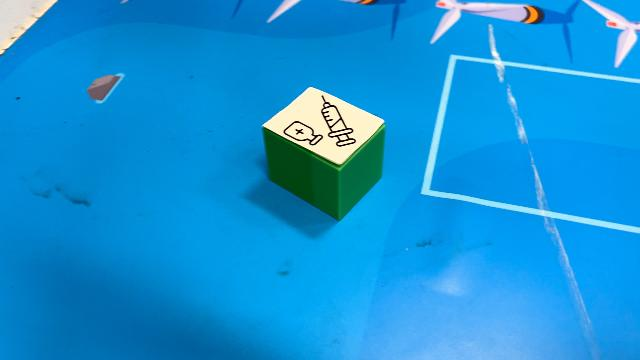syringe: (262, 87, 386, 224)
